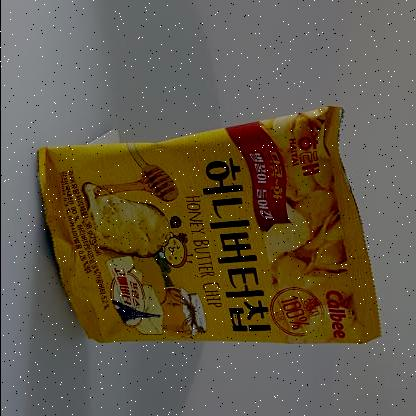Others: (27, 101, 393, 371)
